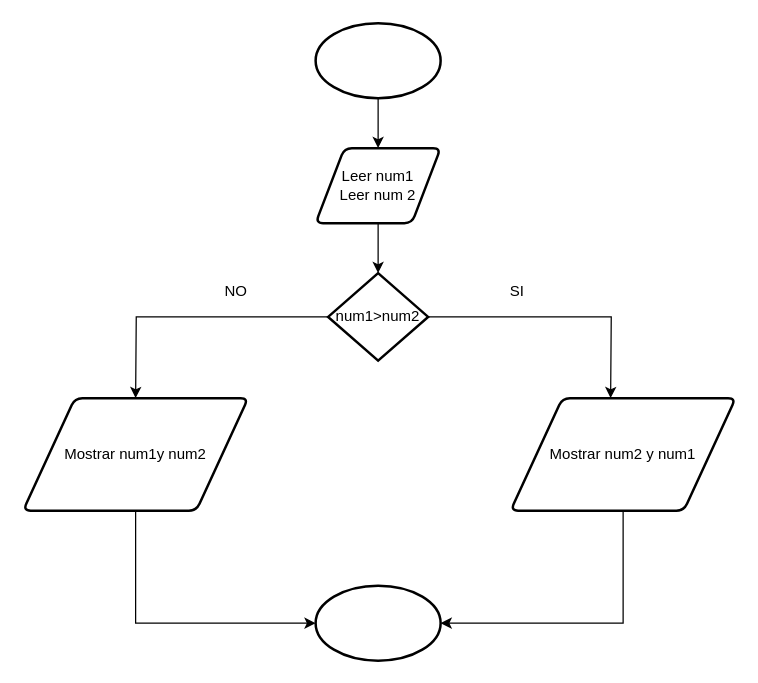
Image size: 758x683. Some labels were removed from this diagram. The centre of each missing label's shape, as x and y in pixels:
FIN: the point at 377,622
Start: the point at 377,60
